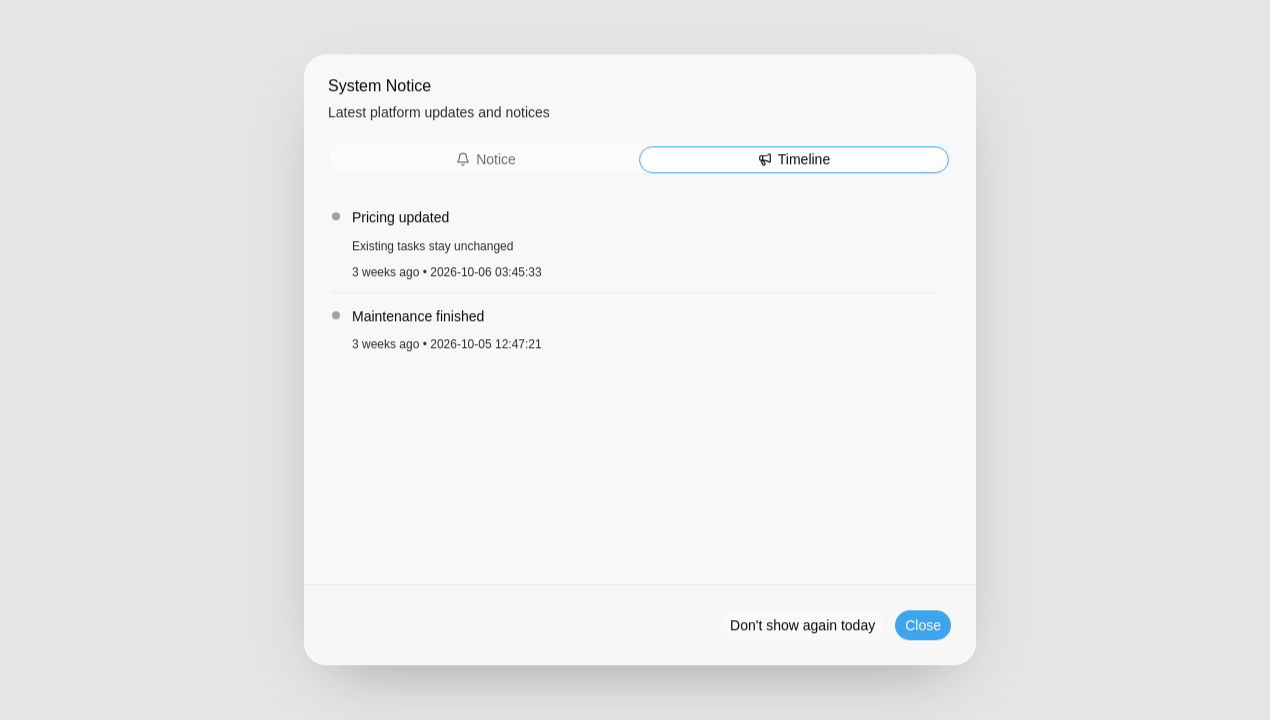
Test: 打开时优先时间线，通知可切换且保留完整内容与时间
The image size is (1280, 720).
Check: the text "Pricing updated" is shown, box left=352, top=209, right=449, bottom=225
Check: the text "Existing tasks stay unchanged" is shown, box left=352, top=239, right=513, bottom=253
Click the tab "Notice" at {"x": 486, "y": 159}, box left=332, top=147, right=640, bottom=172
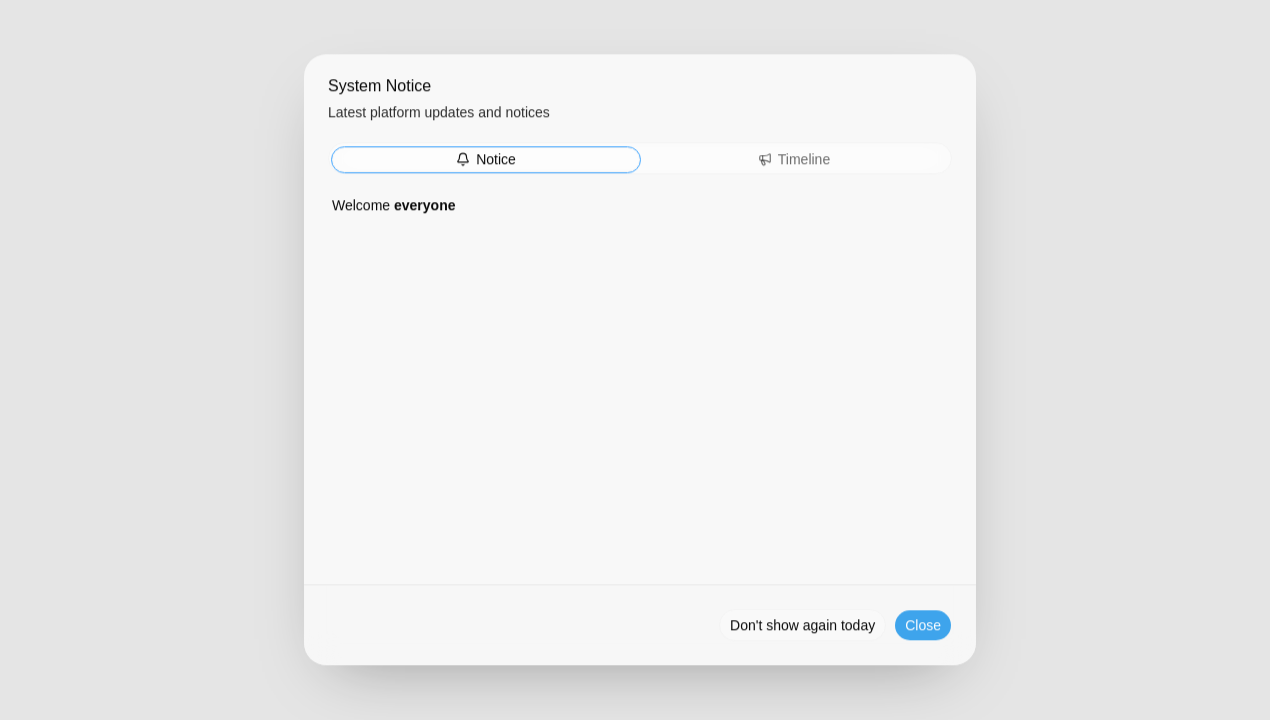
Check: the text "everyone" is shown, box left=394, top=197, right=456, bottom=213
